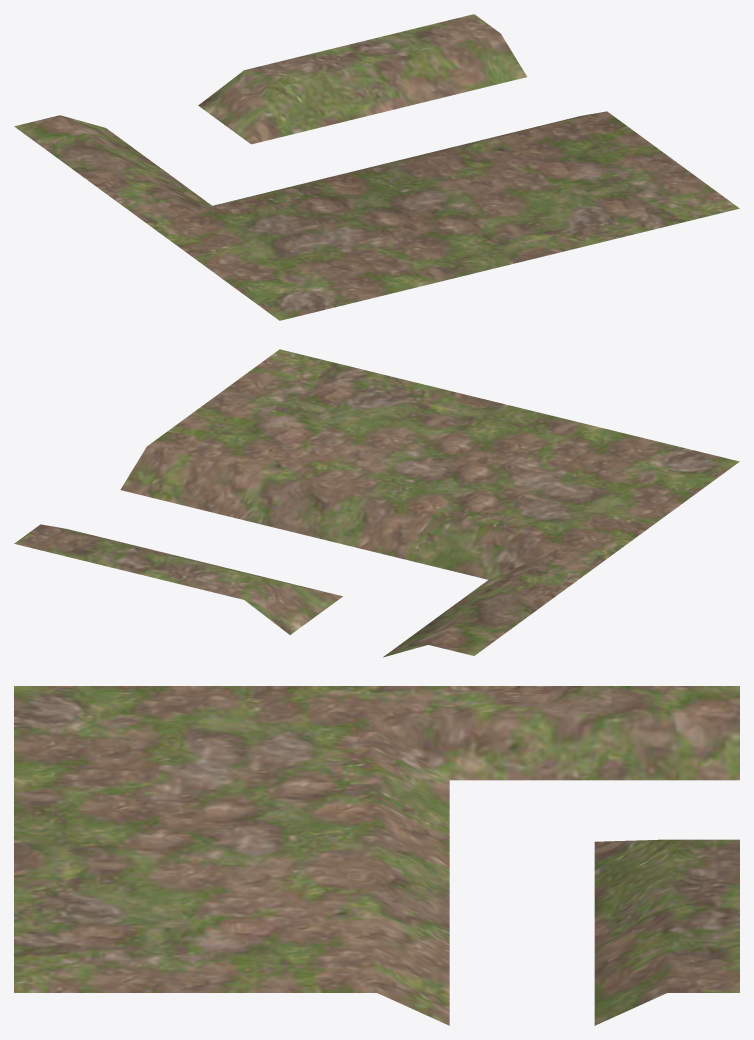
File: ground6.FBX
The picture shows the model from 3 angles, top to bottom: view 1: azimuth 30°, elevation 25°; view 2: azimuth 150°, elevation 25°; view 3: azimuth 270°, elevation 25°; orthographic projection. The views are drawn at different scales.
Visible parts, largest first — view 1: ground6; view 2: ground6; view 3: ground6.
Part boxes in pixels (bbox=[...]): ground6: bbox=[14, 14, 739, 320]; ground6: bbox=[14, 349, 739, 657]; ground6: bbox=[14, 686, 739, 1025].
Bounding box in the file's own units: 200 × 10 × 200.
